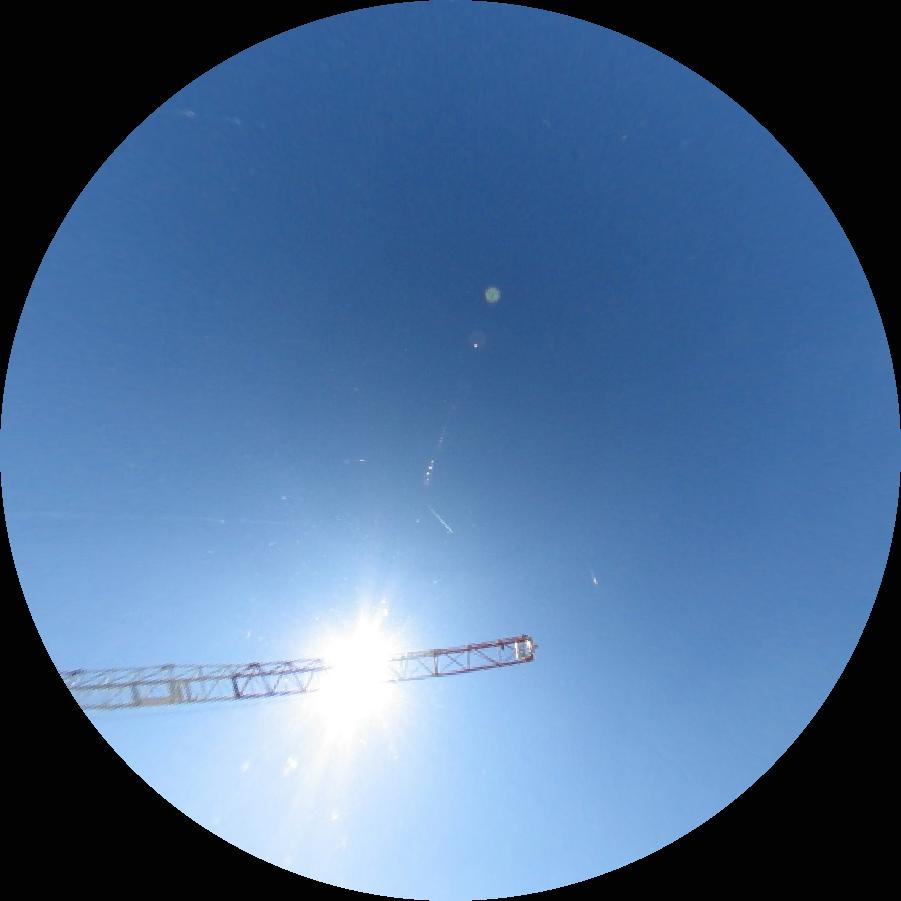contrail young: (429, 507, 455, 532)
sun: (306, 606, 402, 736)
